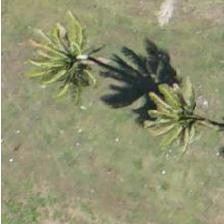Kelapa_Sawit: (20, 15, 110, 105), (135, 65, 224, 155)
